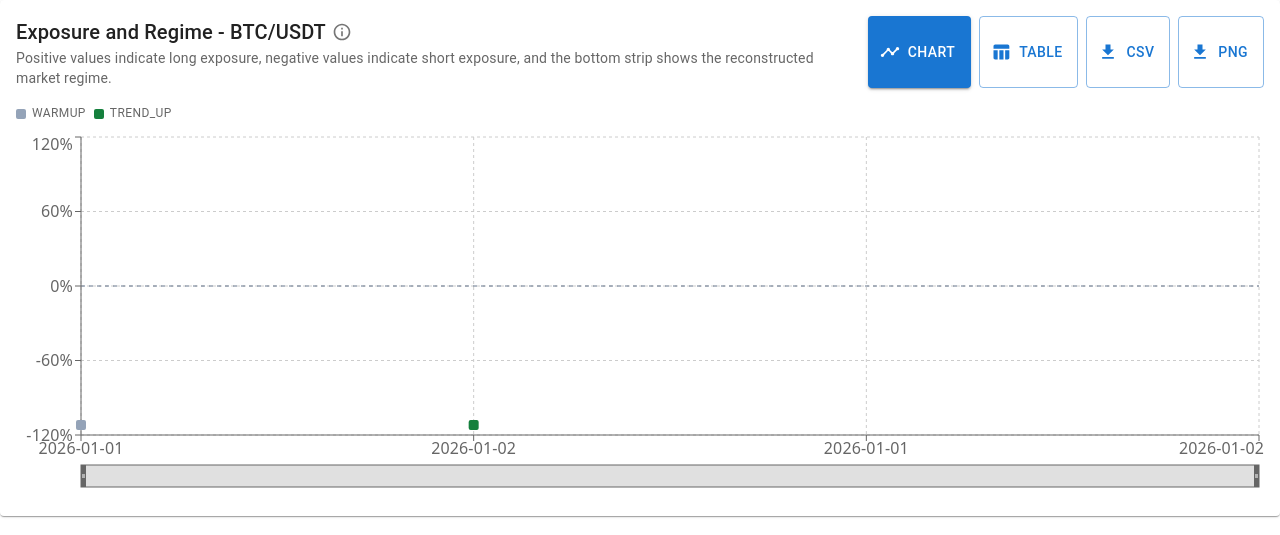
Scenario: backtest telemetry charts › renders exposure chart table mode
Expected: the heading "Exposure and Regime - BTC/USDT" is shown, x1=16 y1=16 x2=326 y2=48
Click the button "Table" at (1029, 52), box x1=979 y1=16 x2=1078 y2=88
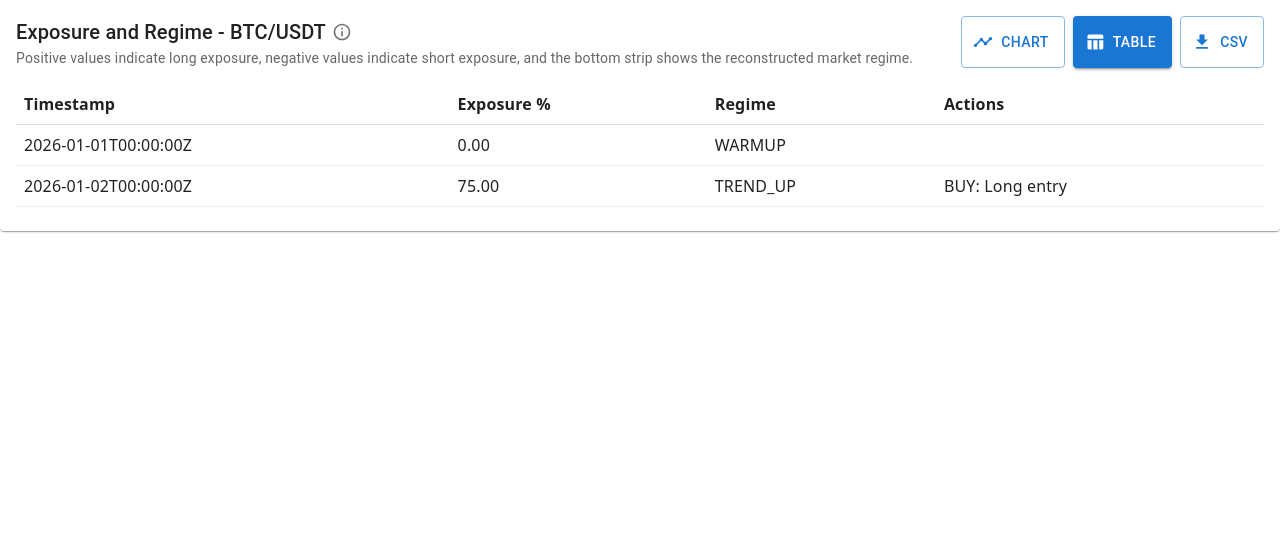
Now the column heading "Regime" is shown, box x1=707 y1=84 x2=936 y2=124
